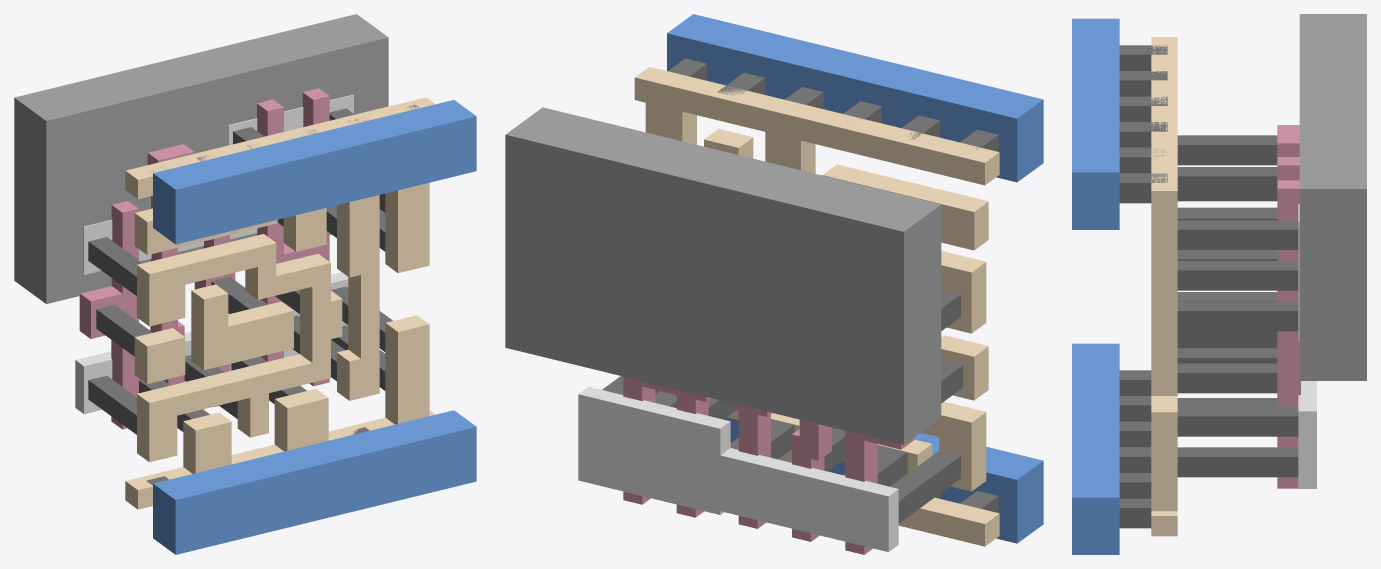
The model's file is sky130_fd_sc_hd__or3_2.gds.gltf.
The picture shows the model from 3 angles, left to right: view 1: azimuth 30°, elevation 25°; view 2: azimuth 150°, elevation 25°; view 3: azimuth 270°, elevation 25°; orthographic projection. The views are drawn at different scales.
Parts seen in each view (by area): view 1: sky130_fd_sc_hd__or3_2_li1, sky130_fd_sc_hd__or3_2_met1, sky130_fd_sc_hd__or3_2_nwell, sky130_fd_sc_hd__or3_2_licon, sky130_fd_sc_hd__or3_2_poly, sky130_fd_sc_hd__or3_2_diff; view 2: sky130_fd_sc_hd__or3_2_nwell, sky130_fd_sc_hd__or3_2_li1, sky130_fd_sc_hd__or3_2_met1, sky130_fd_sc_hd__or3_2_diff, sky130_fd_sc_hd__or3_2_licon, sky130_fd_sc_hd__or3_2_poly, sky130_fd_sc_hd__or3_2_mcon; view 3: sky130_fd_sc_hd__or3_2_licon, sky130_fd_sc_hd__or3_2_nwell, sky130_fd_sc_hd__or3_2_met1, sky130_fd_sc_hd__or3_2_li1, sky130_fd_sc_hd__or3_2_mcon, sky130_fd_sc_hd__or3_2_poly, sky130_fd_sc_hd__or3_2_diff.
Boxes of the visible parts, left/top/right/bottom form: sky130_fd_sc_hd__or3_2_li1: left=125, top=97, right=435, bottom=509; sky130_fd_sc_hd__or3_2_met1: left=153, top=100, right=476, bottom=554; sky130_fd_sc_hd__or3_2_nwell: left=14, top=14, right=388, bottom=303; sky130_fd_sc_hd__or3_2_licon: left=88, top=108, right=392, bottom=434; sky130_fd_sc_hd__or3_2_poly: left=79, top=88, right=329, bottom=429; sky130_fd_sc_hd__or3_2_diff: left=75, top=94, right=353, bottom=414; sky130_fd_sc_hd__or3_2_nwell: left=505, top=107, right=941, bottom=444; sky130_fd_sc_hd__or3_2_li1: left=634, top=67, right=999, bottom=546; sky130_fd_sc_hd__or3_2_met1: left=667, top=14, right=1043, bottom=543; sky130_fd_sc_hd__or3_2_diff: left=578, top=386, right=898, bottom=551; sky130_fd_sc_hd__or3_2_licon: left=602, top=161, right=963, bottom=523; sky130_fd_sc_hd__or3_2_poly: left=623, top=376, right=914, bottom=554; sky130_fd_sc_hd__or3_2_mcon: left=668, top=58, right=998, bottom=512; sky130_fd_sc_hd__or3_2_licon: left=1177, top=135, right=1298, bottom=477; sky130_fd_sc_hd__or3_2_nwell: left=1299, top=14, right=1366, bottom=380; sky130_fd_sc_hd__or3_2_met1: left=1072, top=18, right=1119, bottom=554; sky130_fd_sc_hd__or3_2_li1: left=1151, top=37, right=1177, bottom=536; sky130_fd_sc_hd__or3_2_mcon: left=1119, top=45, right=1167, bottom=528; sky130_fd_sc_hd__or3_2_poly: left=1277, top=125, right=1300, bottom=488; sky130_fd_sc_hd__or3_2_diff: left=1298, top=204, right=1316, bottom=488.
Size of the model in its own units: 3.14 by 3.2 by 2.24.
